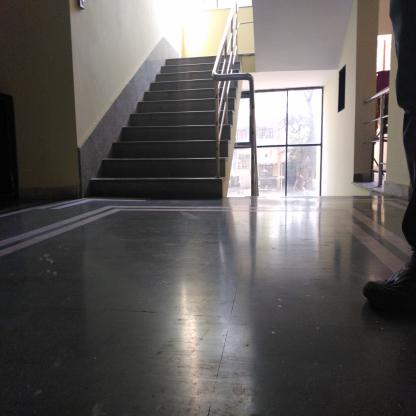stairs: (166, 56, 212, 205)
